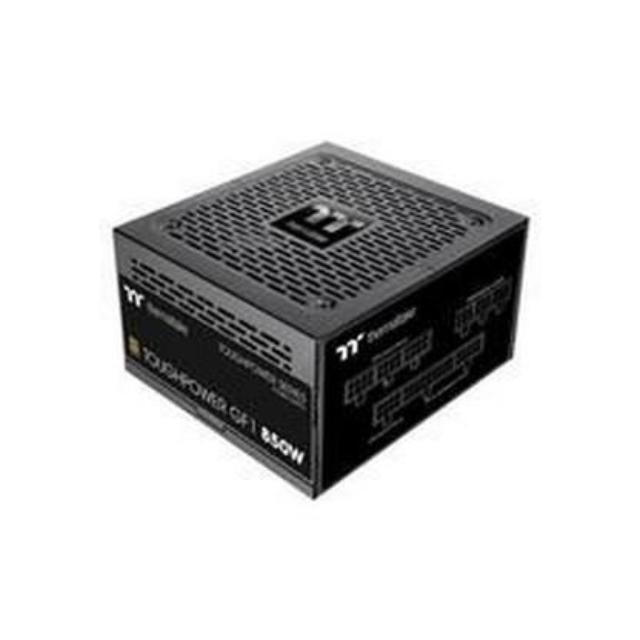PSU: (104, 132, 536, 503)
